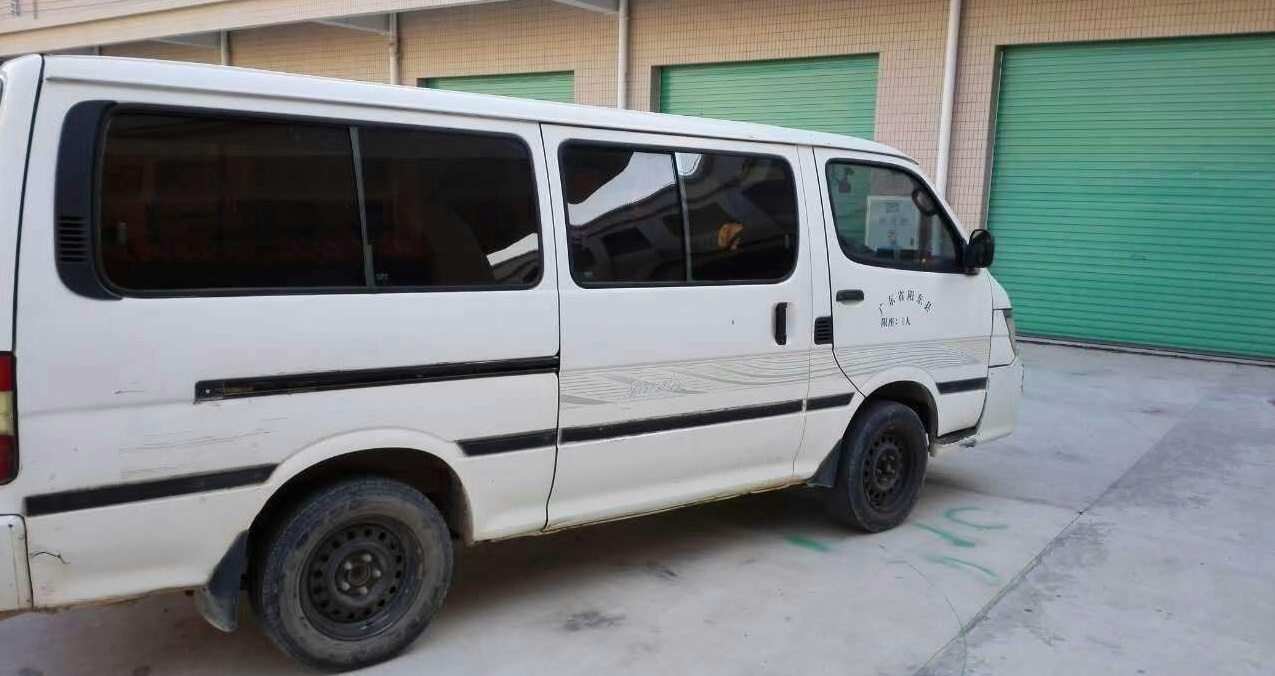minibus: (9, 42, 1032, 636)
